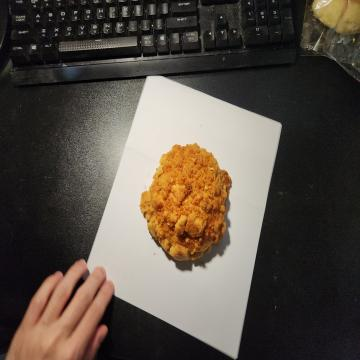soboru_bread: (139, 144, 232, 261)
